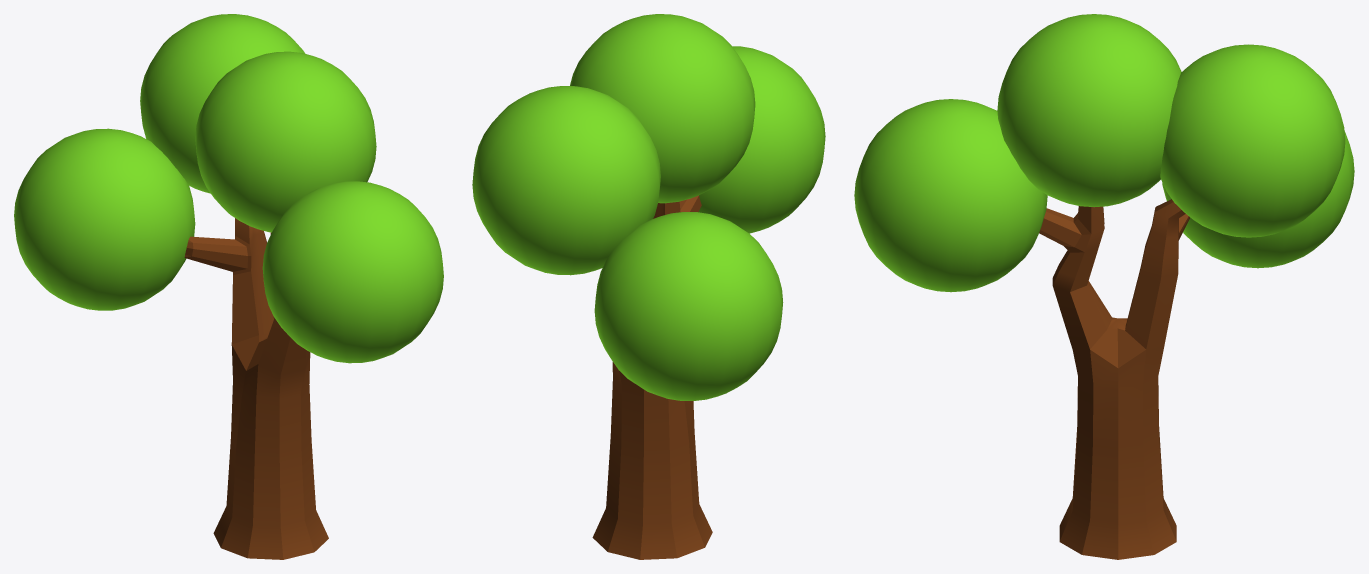
The model's file is Tree.fbx.
The picture shows the model from 3 angles, left to right: view 1: azimuth 30°, elevation 25°; view 2: azimuth 150°, elevation 25°; view 3: azimuth 270°, elevation 25°; orthographic projection. The views are drawn at different scales.
Parts seen in each view (by area): view 1: pSphere5; view 2: pSphere5; view 3: pSphere5.
Part boxes in pixels (left/top/right/bottom): pSphere5: left=14, top=14, right=443, bottom=559; pSphere5: left=472, top=14, right=825, bottom=559; pSphere5: left=854, top=14, right=1354, bottom=559.
Size of the model in its own units: 7.17 by 11.83 by 10.47.
